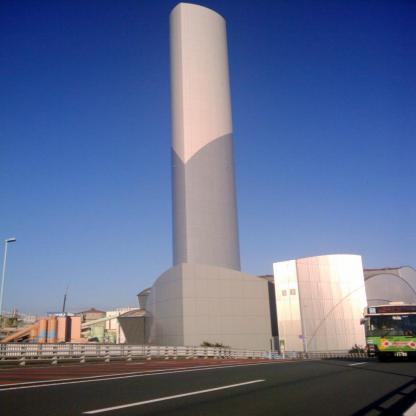Bus: (360, 301, 415, 363)
